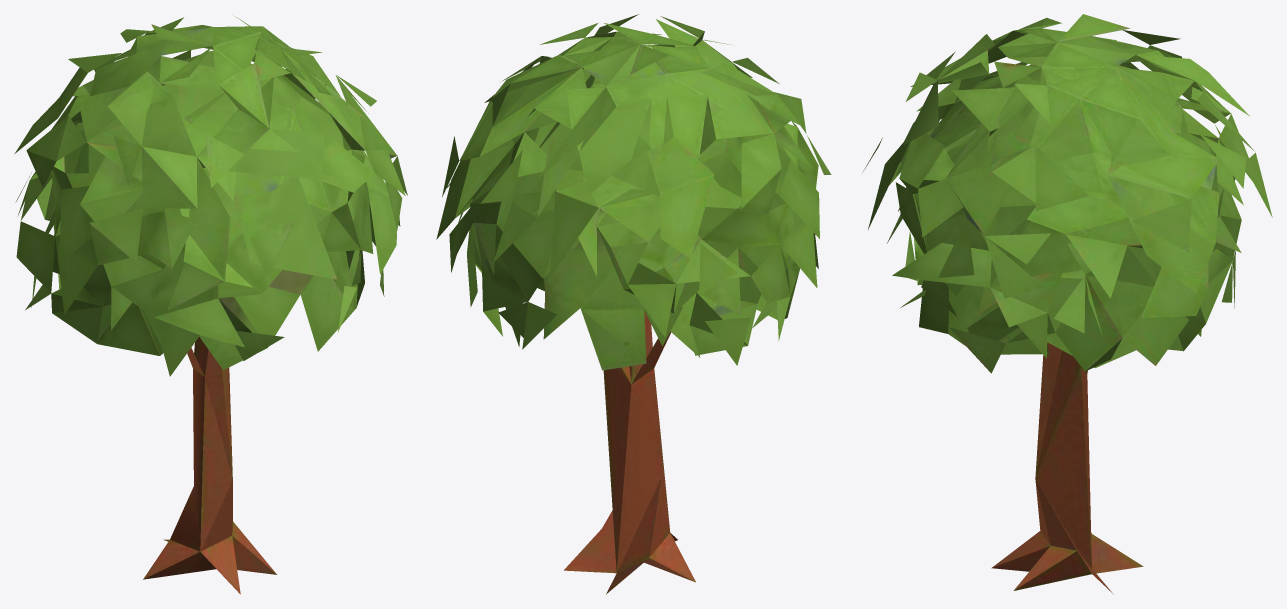
File: w_baum.glb
3 views of the same model, side by side, from view 1: azimuth 30°, elevation 25°; view 2: azimuth 150°, elevation 25°; view 3: azimuth 270°, elevation 25° (orthographic).
Bounding box in the file's own units: 1.27 × 1.87 × 1.31.
1 material, 1 textured.
